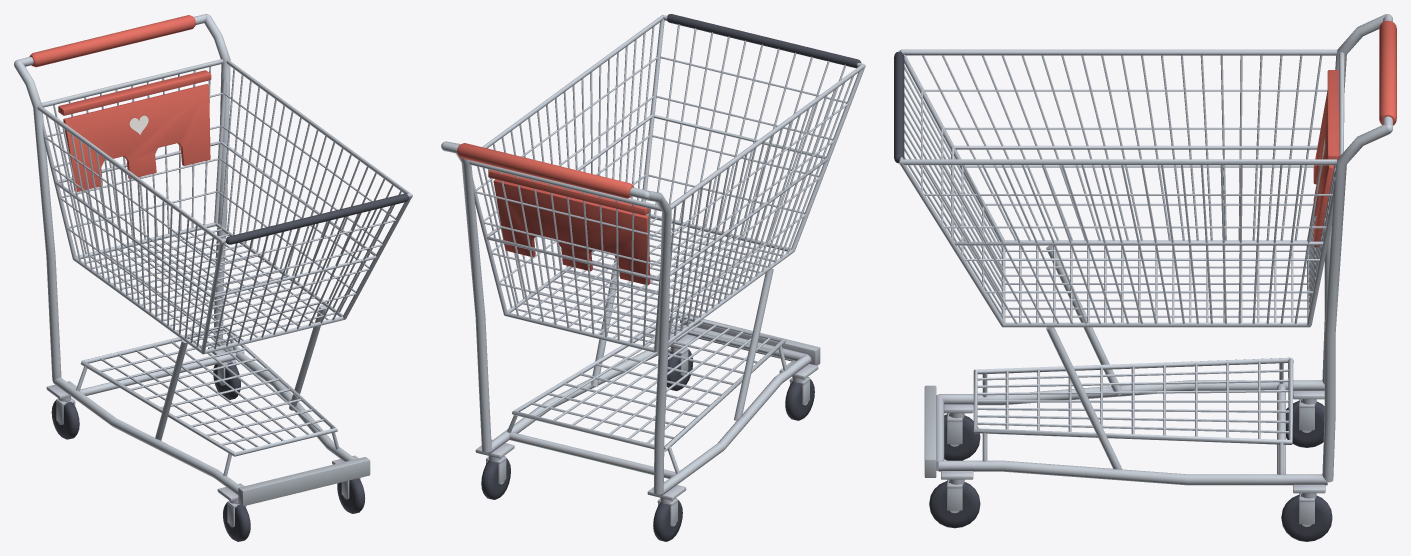
File: shopping-cart.glb
3 renders of one model, left to right at view 1: azimuth 30°, elevation 25°; view 2: azimuth 150°, elevation 25°; view 3: azimuth 270°, elevation 25°, orthographic. The views are drawn at different scales.
Visible parts, largest first — view 1: shopping-cart_body; view 2: shopping-cart_body; view 3: shopping-cart_body.
Boxes of the visible parts, x1,y1,x2,y2 form: shopping-cart_body: [14, 14, 412, 541]; shopping-cart_body: [441, 14, 865, 541]; shopping-cart_body: [894, 14, 1396, 541].
Size of the model in its own units: 0.584 by 1.02 by 1.08.
1 material, 1 textured.
